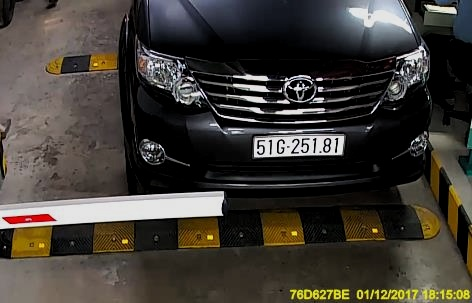plate: (252, 129, 347, 162)
